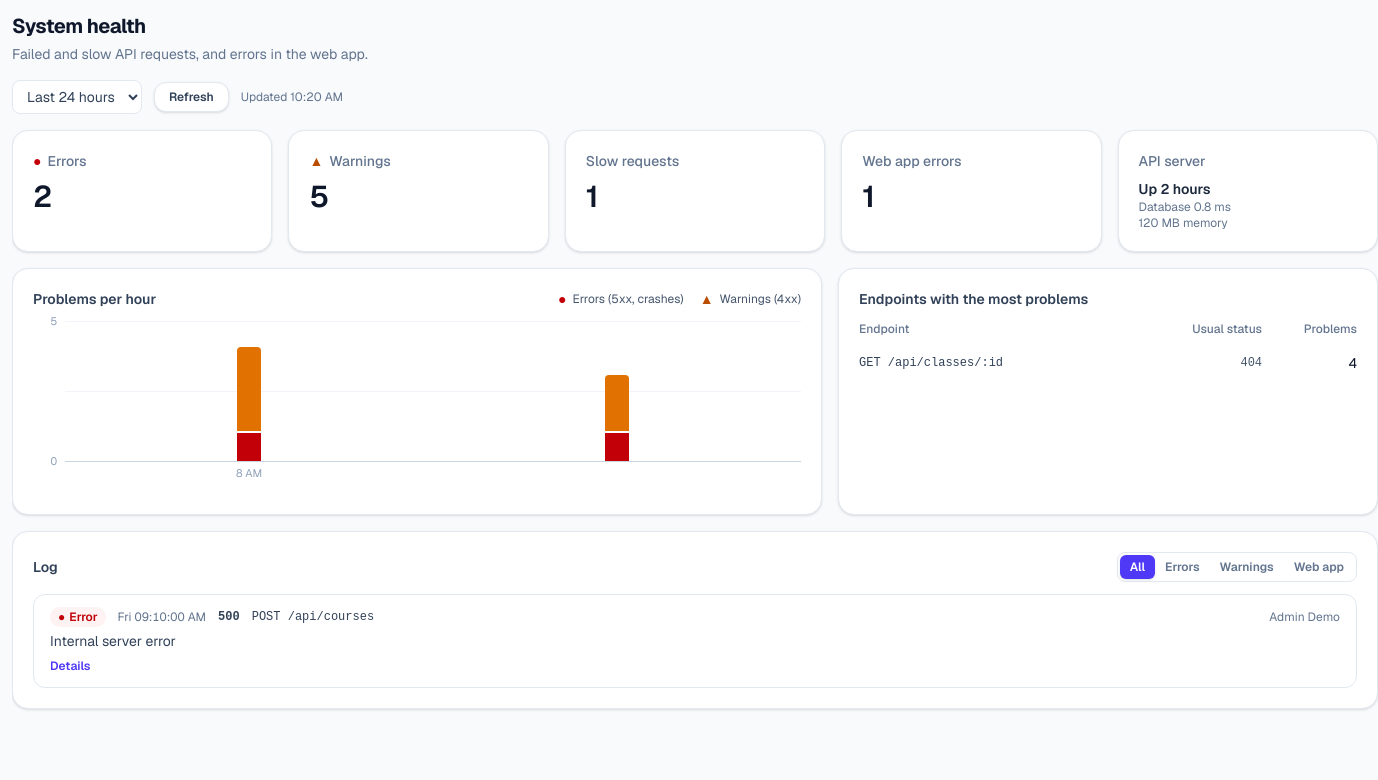
Test: SystemHealth › filters the log and expands an entry
This screenshot has width=1378, height=780.
Click the button "Errors".
click(1182, 566)  # box [1155,554,1210,578]
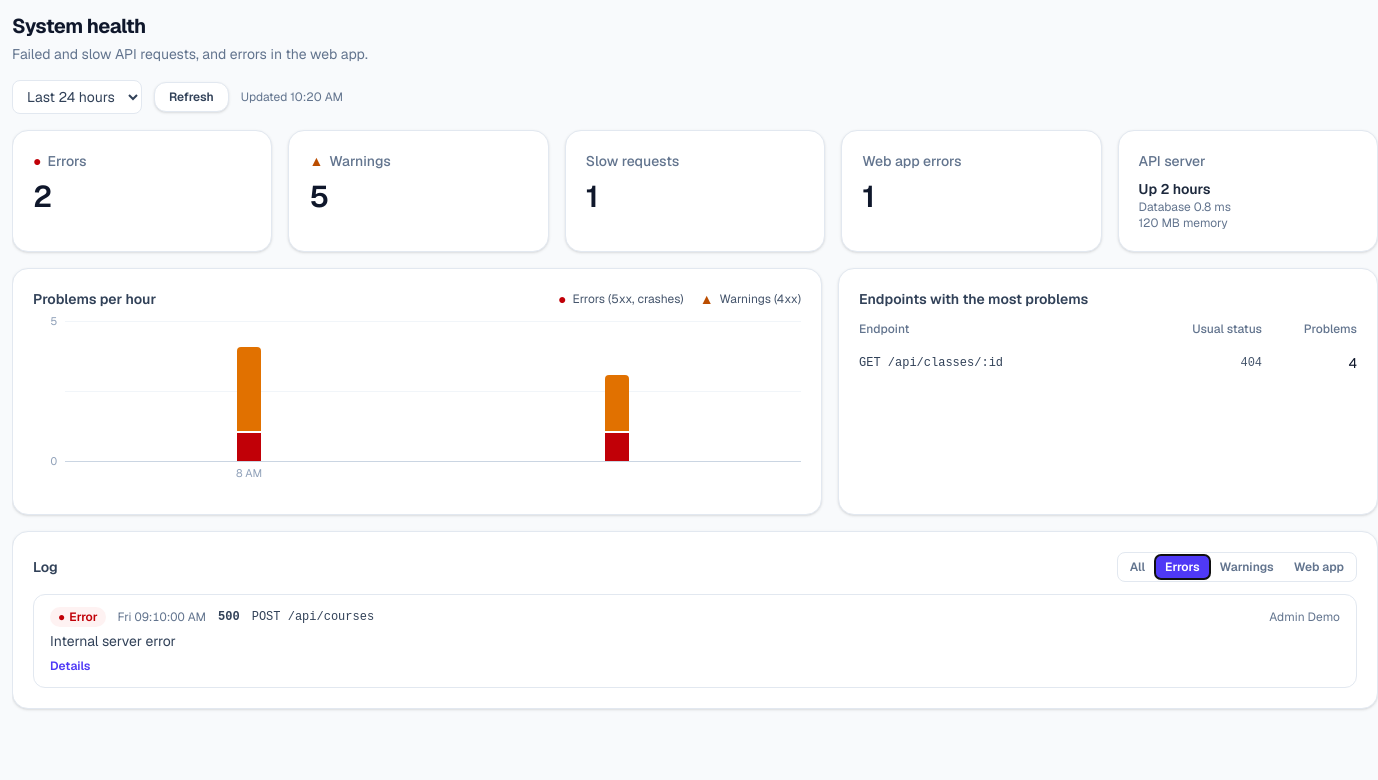
Click the button "Details".
click(70, 666)  # box [50,658,90,674]
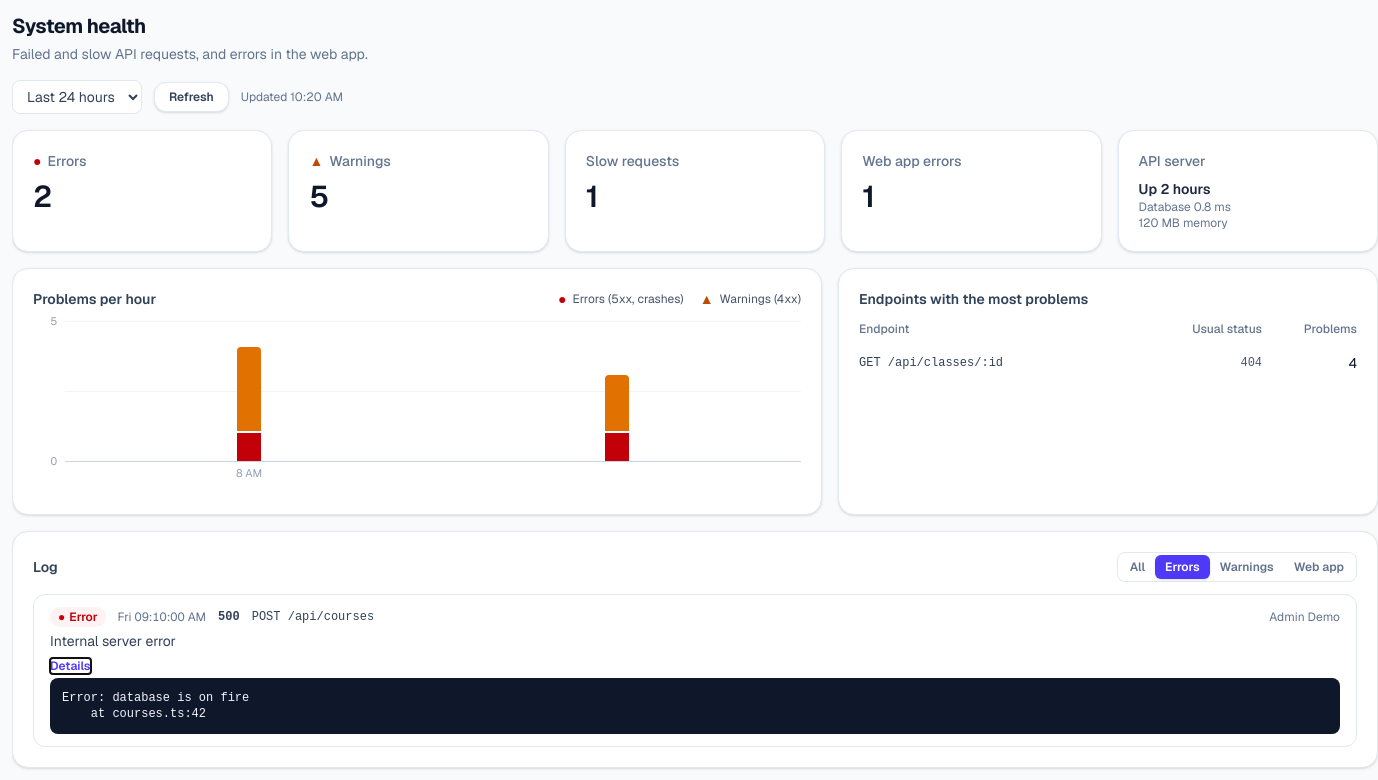
Now the text "Error: database is on fire at courses.ts:42" is shown, box [50,678,1340,734]
